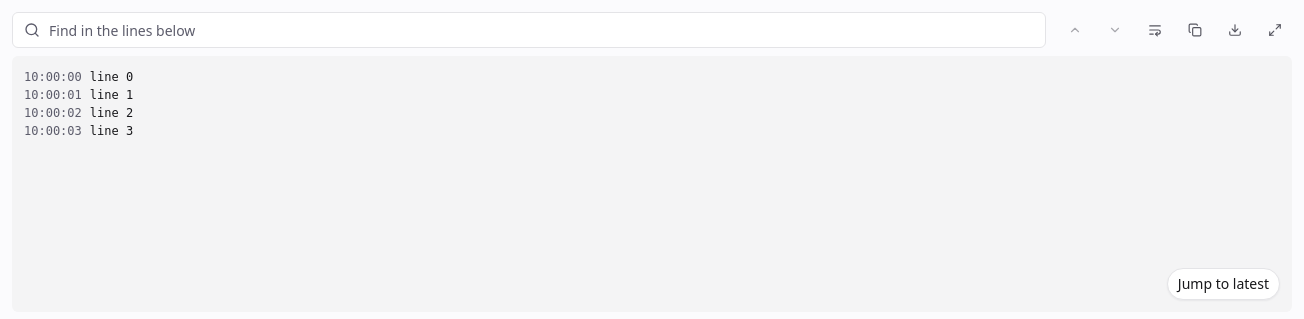
Scenario: LogPane › detaches when the reader scrolls up, and offers a way back
Click the button "Jump to latest": (1223, 284) [1167,268,1280,300]
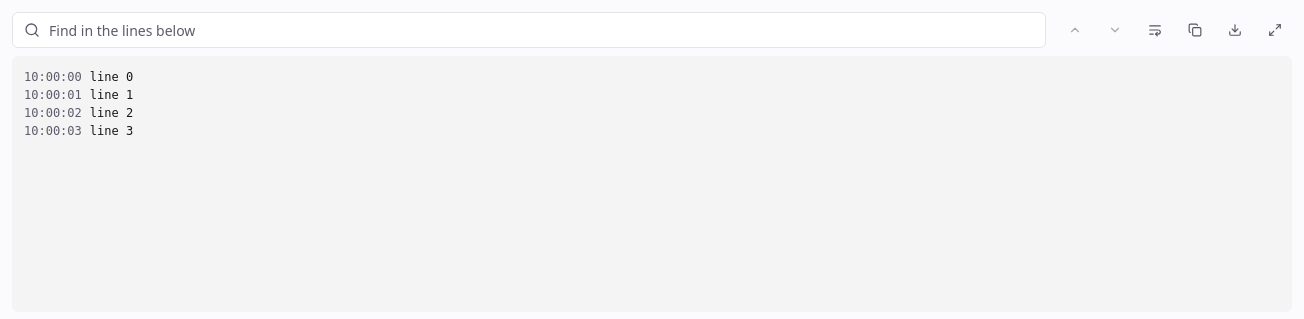
Expected: the button "Jump to latest" is gone
